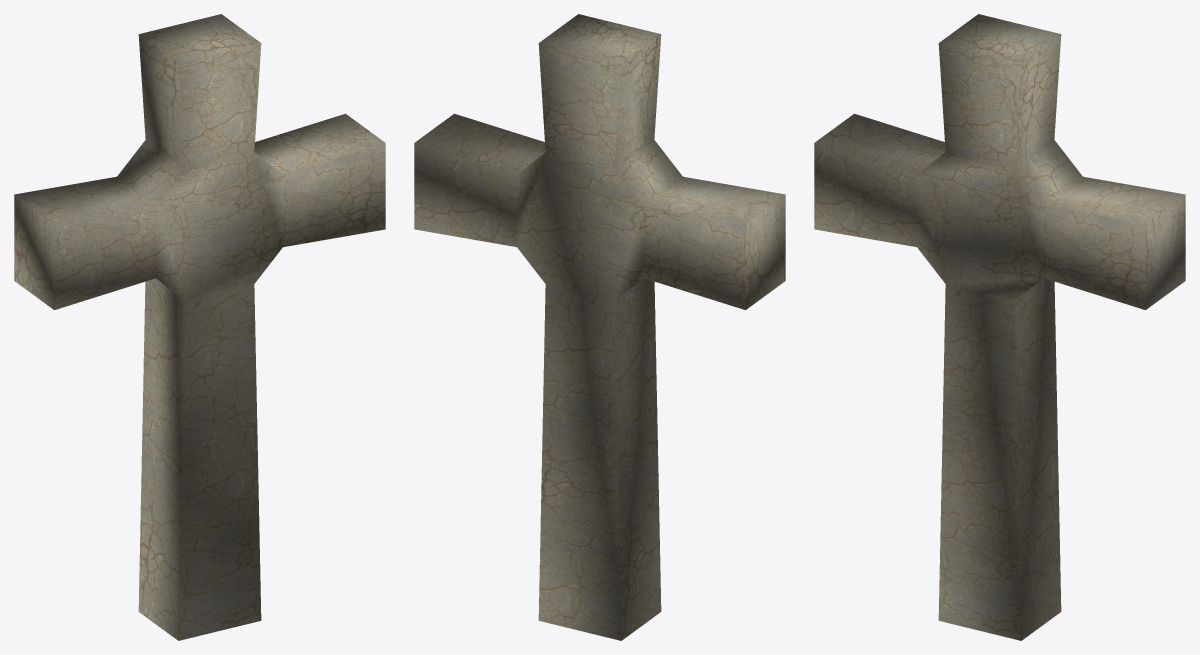
File: tombcross.dae
3 renders of one model, left to right at view 1: azimuth 30°, elevation 25°; view 2: azimuth 150°, elevation 25°; view 3: azimuth 330°, elevation 25°, orthographic.
Visible parts, largest first — view 1: tombcros; view 2: tombcros; view 3: tombcros.
Boxes of the visible parts, box(x1,y1,x2,y2) form: tombcros: box(14, 14, 385, 640); tombcros: box(414, 14, 785, 640); tombcros: box(814, 14, 1185, 640).
Size of the model in its own units: 0.6714 by 0.1399 by 1.12.
1 material, 1 textured.
